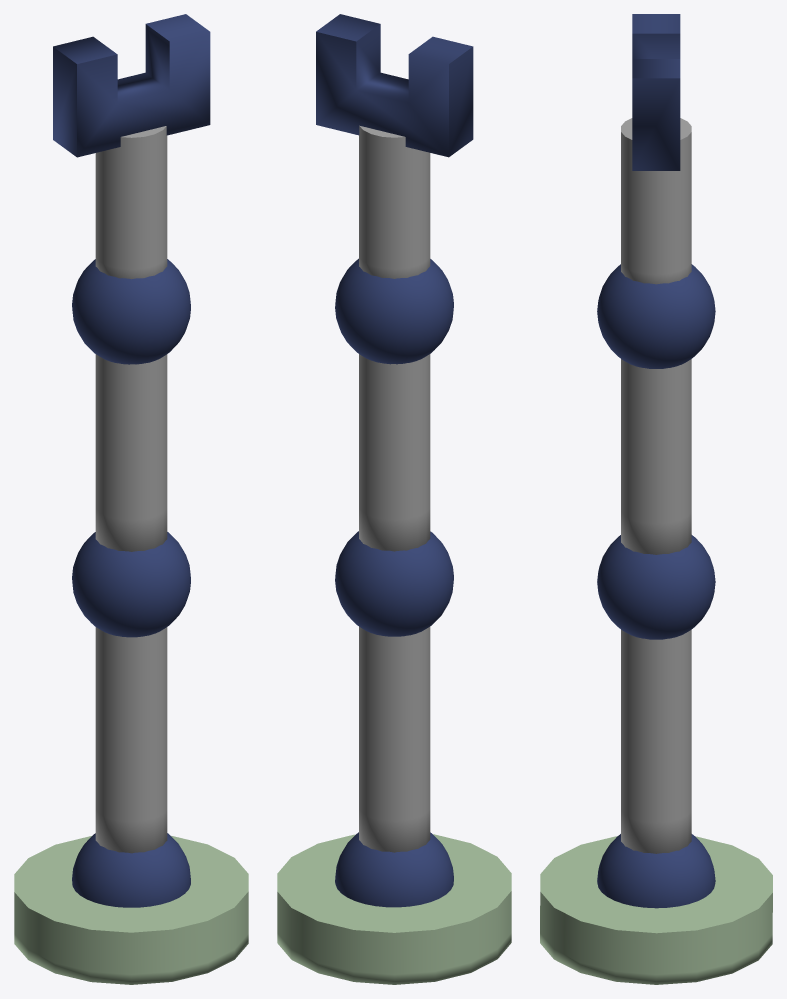
File: Arm01.DAE
3 renders of one model, left to right at view 1: azimuth 30°, elevation 25°; view 2: azimuth 150°, elevation 25°; view 3: azimuth 270°, elevation 25°, orthographic.
Parts seen in each view (by area): view 1: base, mao, antebraco1, antebraco2, antebraco3, pJuncao3, pJuncao2, pJuncao1; view 2: base, mao, antebraco1, antebraco2, antebraco3, pJuncao2, pJuncao3, pJuncao1; view 3: base, antebraco1, antebraco2, pJuncao2, pJuncao3, antebraco3, mao, pJuncao1.
Part boxes in pixels (x1=…): base: x1=14, y1=836, x2=248, y2=984; mao: x1=53, y1=14, x2=210, y2=157; antebraco1: x1=95, y1=627, x2=167, y2=853; antebraco2: x1=95, y1=354, x2=167, y2=551; antebraco3: x1=95, y1=126, x2=167, y2=279; pJuncao3: x1=72, y1=259, x2=190, y2=364; pJuncao2: x1=72, y1=532, x2=190, y2=637; pJuncao1: x1=72, y1=833, x2=190, y2=907; base: x1=277, y1=834, x2=511, y2=984; mao: x1=316, y1=14, x2=473, y2=157; antebraco1: x1=359, y1=626, x2=430, y2=852; antebraco2: x1=359, y1=354, x2=430, y2=551; antebraco3: x1=359, y1=125, x2=430, y2=278; pJuncao2: x1=335, y1=531, x2=453, y2=636; pJuncao3: x1=335, y1=258, x2=453, y2=364; pJuncao1: x1=335, y1=832, x2=453, y2=907; base: x1=540, y1=836, x2=772, y2=984; antebraco1: x1=621, y1=630, x2=691, y2=853; antebraco2: x1=621, y1=359, x2=691, y2=554; pJuncao2: x1=597, y1=535, x2=715, y2=639; pJuncao3: x1=597, y1=264, x2=715, y2=368; antebraco3: x1=621, y1=118, x2=691, y2=284; mao: x1=632, y1=14, x2=680, y2=170; pJuncao1: x1=597, y1=834, x2=715, y2=908.
Size of the model in its own units: 20.66 by 20.37 by 85.84.
